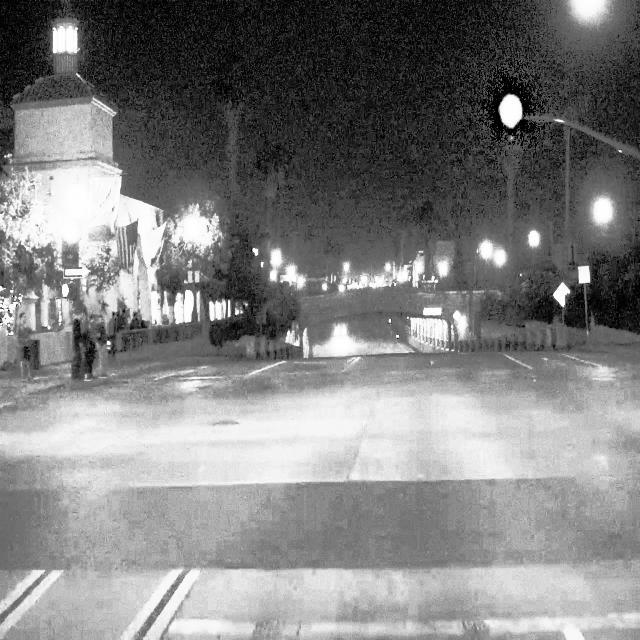Light: (504, 100, 519, 146), (63, 223, 78, 265)
